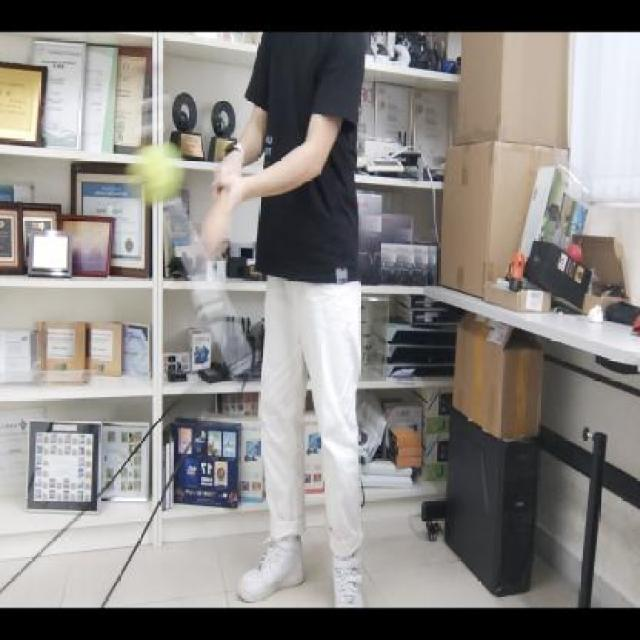baseball: (123, 137, 191, 203)
